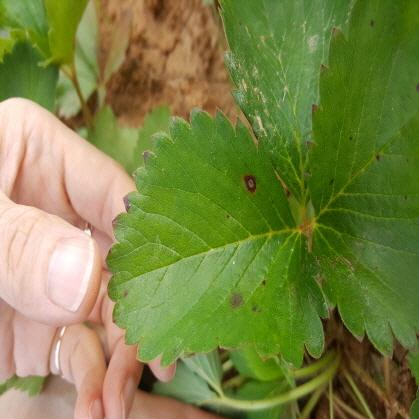Leaf Spot: (103, 104, 331, 368), (301, 0, 418, 360)
